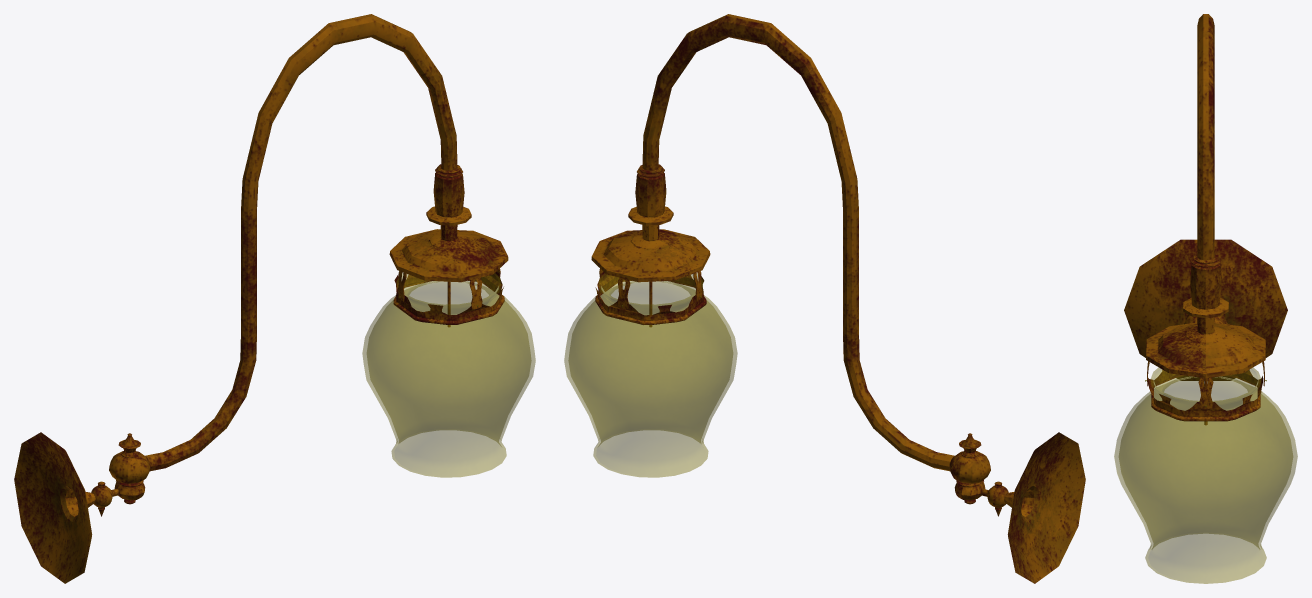
The model's file is wall-lamp.glb.
3 renders of one model, left to right at view 1: azimuth 30°, elevation 25°; view 2: azimuth 150°, elevation 25°; view 3: azimuth 270°, elevation 25°, orthographic. The views are drawn at different scales.
Visible parts, largest first — view 1: RustyWallLamp; view 2: RustyWallLamp; view 3: RustyWallLamp.
Part boxes in pixels (<box>): RustyWallLamp: <box>14,14,535,583</box>; RustyWallLamp: <box>564,14,1085,583</box>; RustyWallLamp: <box>1114,14,1297,583</box>.
Size of the model in its own units: 47.37 by 46.42 by 15.18.
Materials: 1 (1 with a texture image).
